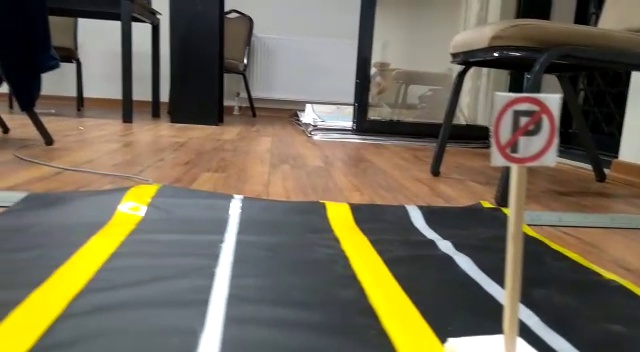park_yapilmaz: (489, 88, 558, 168)
